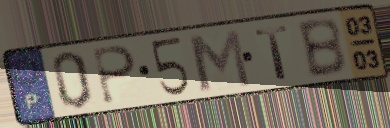0: (50, 49, 96, 112)
5: (147, 34, 191, 98)
B: (294, 15, 350, 81)
M: (184, 26, 254, 94)
P: (90, 44, 138, 107)
T: (252, 23, 292, 82)
